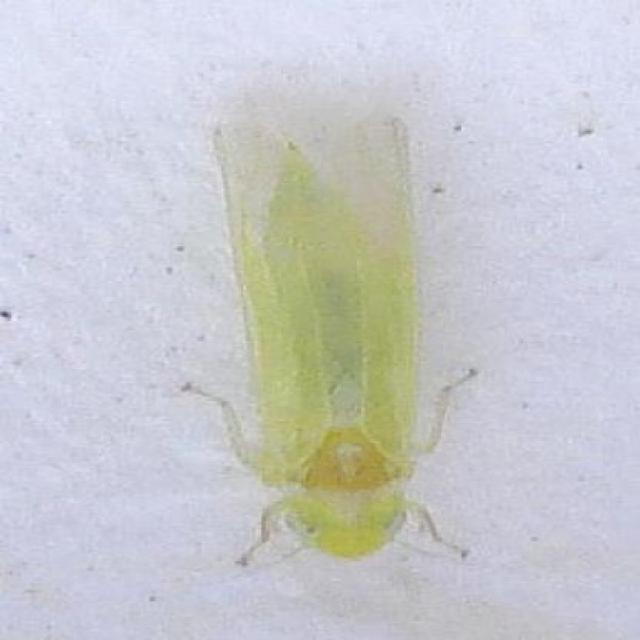green-leafhopper: (176, 134, 498, 566)
